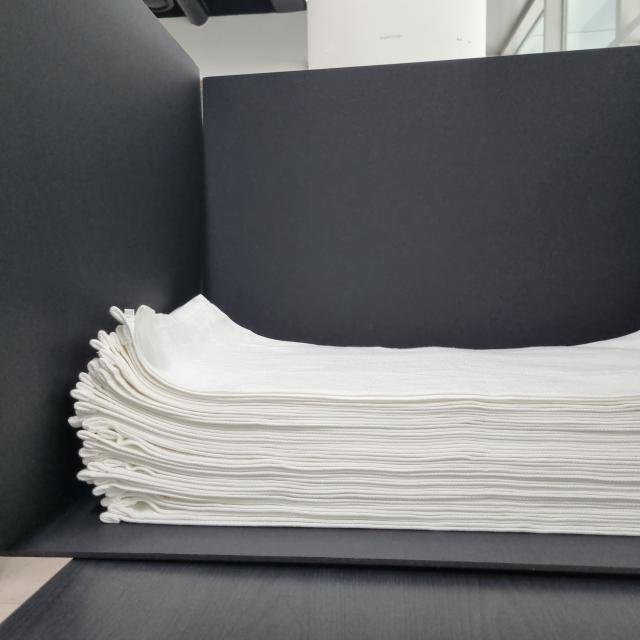not_50count_towel: (65, 262, 640, 538)
